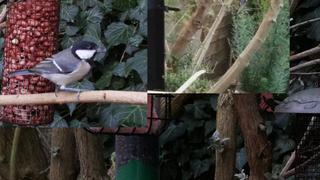great tit: (6, 40, 107, 101)
